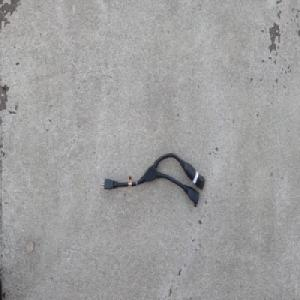Wire: (99, 151, 206, 208)
